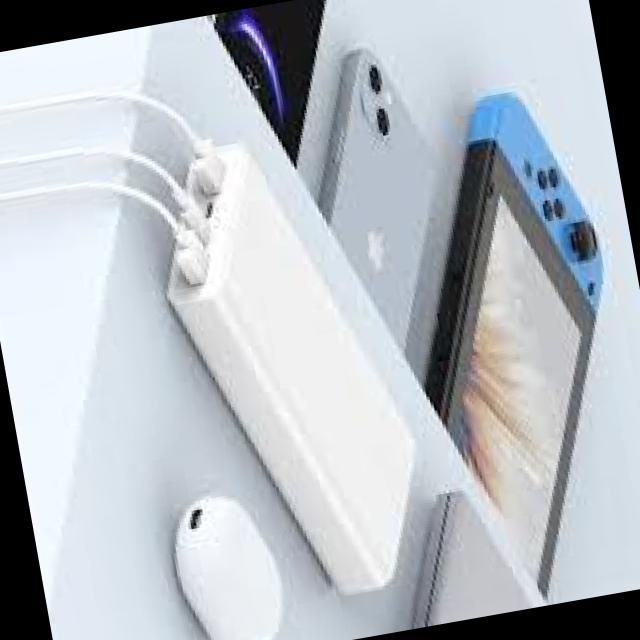power_bank: (134, 124, 442, 623)
